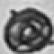not correct: (2, 6, 54, 52)
